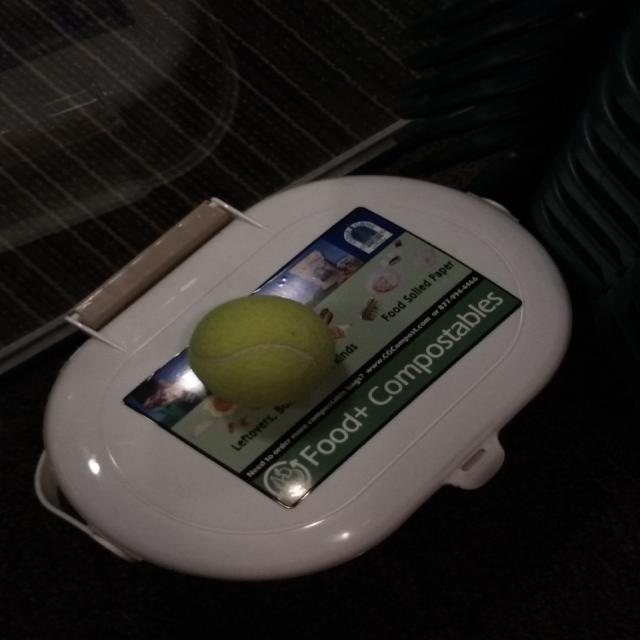Tennis-Ball: (188, 294, 339, 411)
